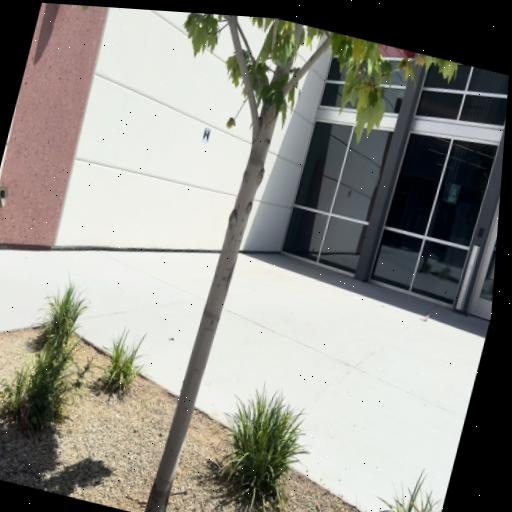target0: (202, 125, 210, 143)
